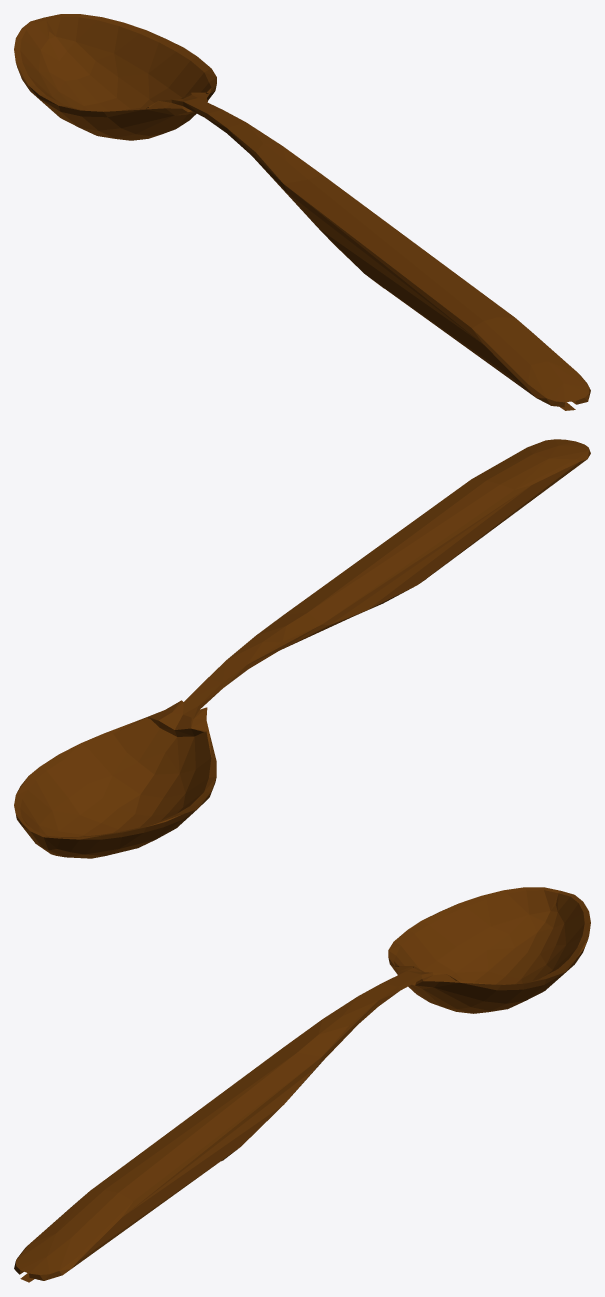
The model's file is Spoon_Mix.glb.
The picture shows the model from 3 angles, top to bottom: view 1: azimuth 30°, elevation 25°; view 2: azimuth 150°, elevation 25°; view 3: azimuth 330°, elevation 25°; orthographic projection.
Visible parts, largest first — view 1: Teapot; view 2: Teapot; view 3: Teapot.
Boxes of the visible parts, bbox=[...] form: Teapot: bbox=[14, 14, 590, 410]; Teapot: bbox=[14, 439, 590, 858]; Teapot: bbox=[14, 887, 590, 1282].
Bounding box in the file's own units: 0.3089 × 0.1678 × 1.79.
